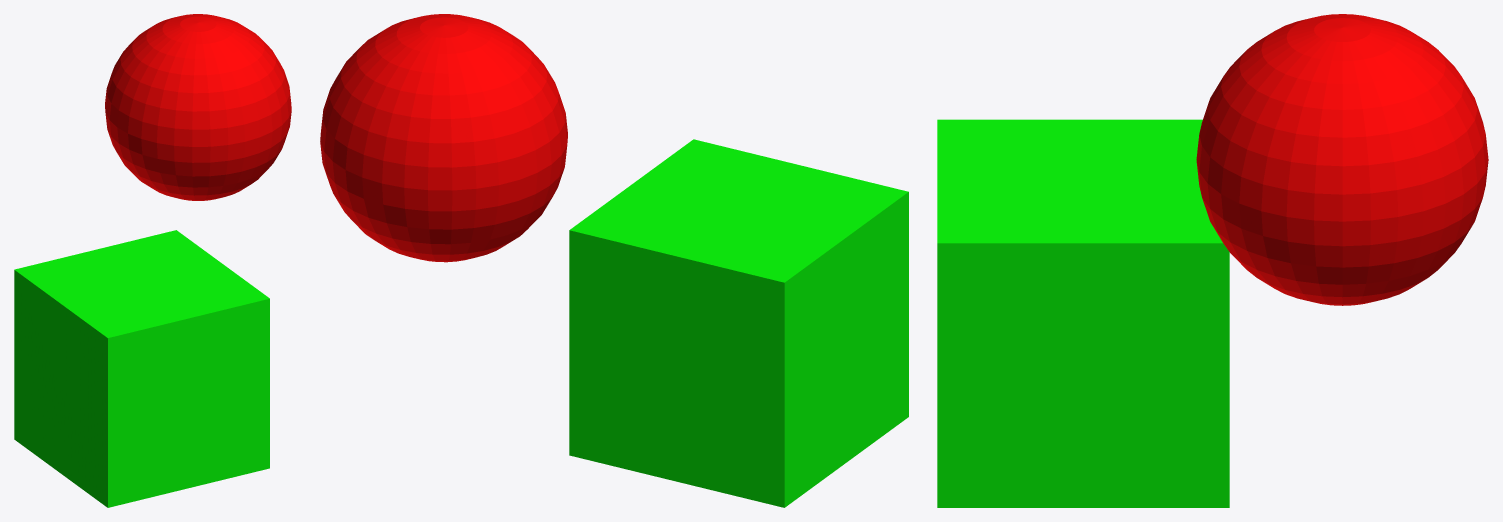
Rendered from demo_scene.obj.
3 views of the same model, side by side, from view 1: azimuth 30°, elevation 25°; view 2: azimuth 150°, elevation 25°; view 3: azimuth 270°, elevation 25° (orthographic). The views are drawn at different scales.
Visible parts, largest first — view 1: Cube, Sphere; view 2: Cube, Sphere; view 3: Cube, Sphere.
Part boxes in pixels (bbox=[...]): Cube: bbox=[14, 230, 269, 507]; Sphere: bbox=[105, 14, 291, 200]; Cube: bbox=[569, 139, 908, 507]; Sphere: bbox=[320, 14, 567, 262]; Cube: bbox=[937, 119, 1229, 507]; Sphere: bbox=[1196, 14, 1488, 305].
Size of what is drawn, in the model's own units: 1.86 by 1.98 by 1.89.
